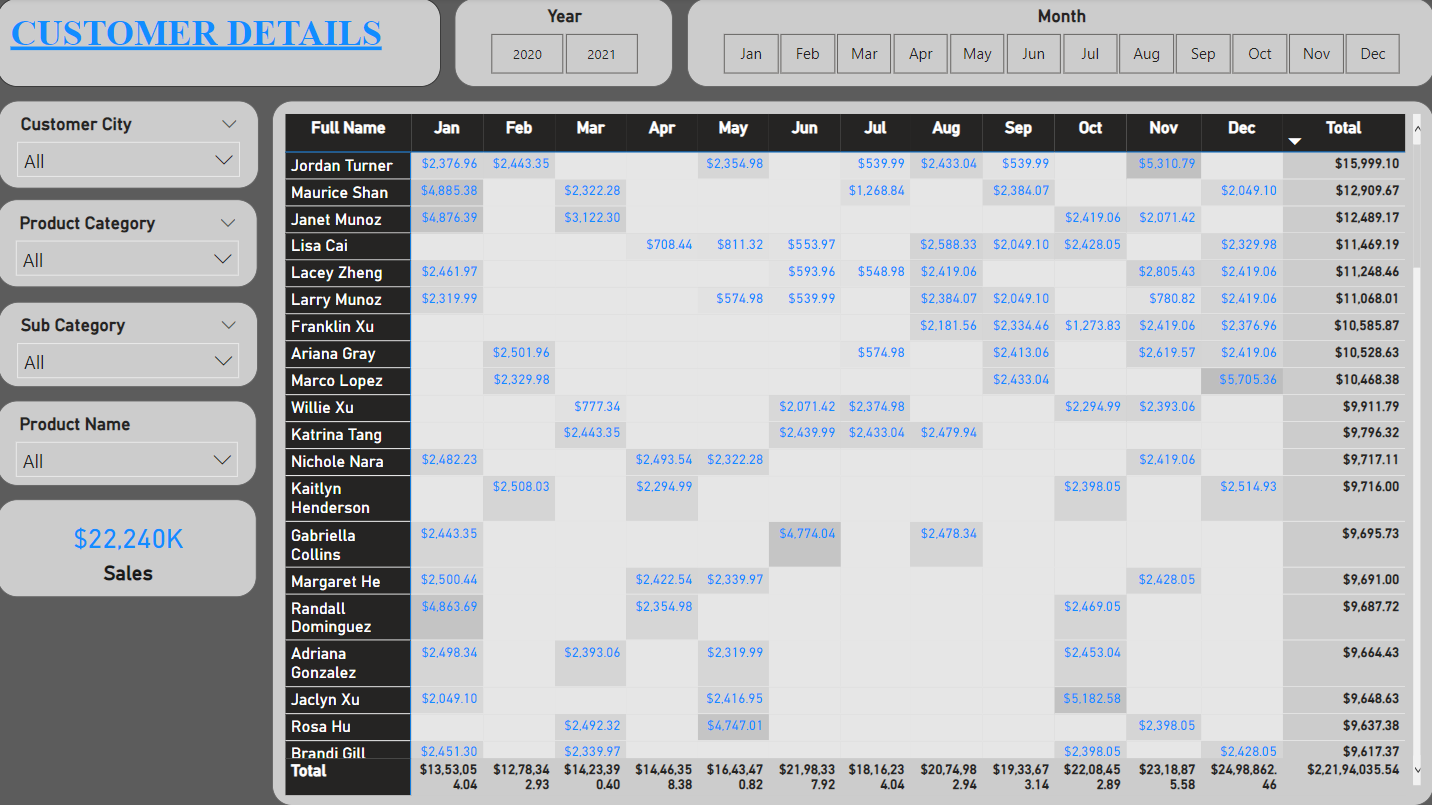

The dashboard page shown, as its layout file describes it:
{"tool":"powerbi","page":{"name":"Customer Details","canvas":[1280,720],"ordinal":1},"visuals":[{"type":"textbox","box":[0,0,395.6,79.6],"z":0},{"type":"slicer","fields":{"Values":["DIM_Product.Product Category"]},"box":[0,179.7,232,78.4],"z":1000},{"type":"slicer","fields":{"Values":["DIM_Product.Sub Category"]},"box":[1.2,270.2,231.6,76],"z":2000},{"type":"slicer","fields":{"Values":["DIM_Product.Product Name"]},"box":[0,358.2,231.6,76],"z":3000},{"type":"slicer","fields":{"Values":["DIM_Customers.Customer City"]},"box":[1.2,91.7,232,78],"z":4000},{"type":"slicer","title":"Year","fields":{"Values":["DIM_Calendar.Year"]},"box":[407.6,0,194.2,79.6],"z":5000},{"type":"slicer","title":"Month","fields":{"Values":["DIM_Calendar.MonthShort"]},"box":[613.9,0,665.7,79.6],"z":6000},{"type":"card","fields":{"Values":["Analysis Metrics.Sales"]},"box":[0,446.2,231.6,86.8],"z":7000},{"type":"pivotTable","fields":{"Rows":["DIM_Customers.Full Name"],"Columns":["DIM_Calendar.MonthShort"],"Values":["Analysis Metrics.Sales"]},"box":[244.8,91.7,1034.8,628.3],"z":8000}]}

Visuals, with their boxes in screenshot pixels (x1, y1, x2, y2), scaled from the page's 1280x720 canvas onto the 1432x805 screenshot:
textbox: l=0, t=0, r=443, b=89
slicer - DIM_Product.Product Category: l=0, t=201, r=260, b=289
slicer - DIM_Product.Sub Category: l=1, t=302, r=260, b=387
slicer - DIM_Product.Product Name: l=0, t=400, r=259, b=485
slicer - DIM_Customers.Customer City: l=1, t=103, r=261, b=190
"Year" slicer: l=456, t=0, r=673, b=89
"Month" slicer: l=687, t=0, r=1431, b=89
card - Analysis Metrics.Sales: l=0, t=499, r=259, b=596
pivotTable - DIM_Customers.Full Name x DIM_Calendar.MonthShort: l=274, t=103, r=1431, b=804
